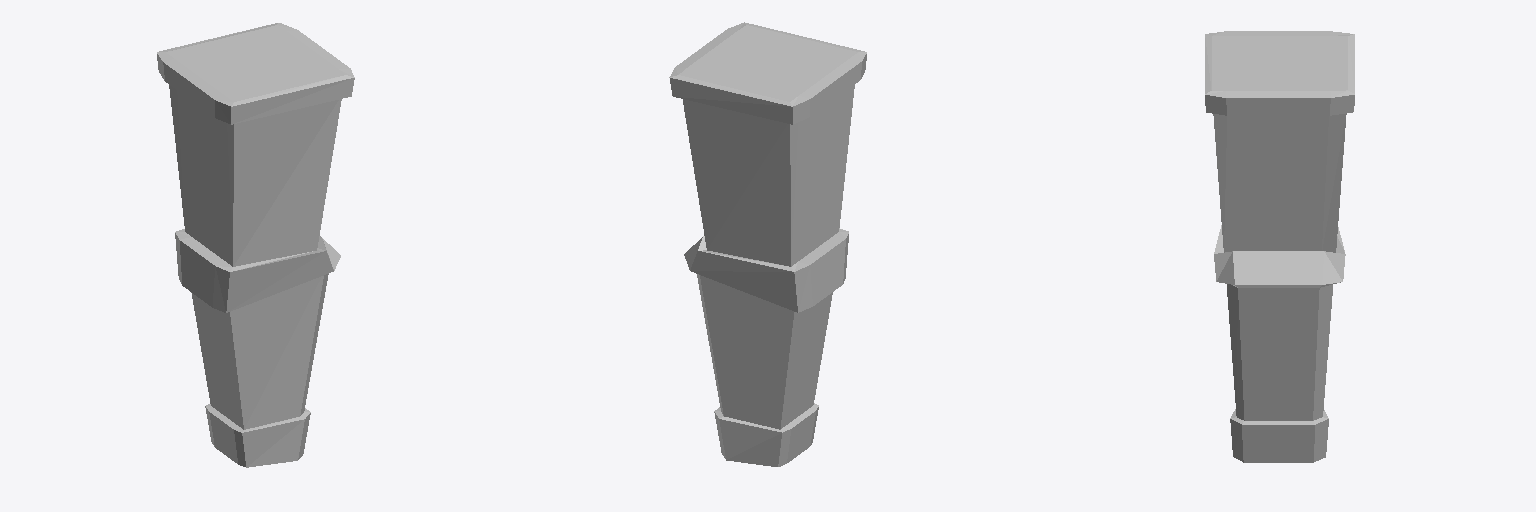
The model's file is leg.obj.
The picture shows the model from 3 angles: view 1: azimuth 30°, elevation 25°; view 2: azimuth 150°, elevation 25°; view 3: azimuth 270°, elevation 25°; orthographic projection.
Parts seen in each view (by area): view 1: pCube7; view 2: pCube7; view 3: pCube7.
Part boxes in pixels (x1,y1,x2,y2): pCube7: (157, 23, 354, 467); pCube7: (669, 22, 866, 466); pCube7: (1205, 31, 1354, 462).
Size of the model in its own units: 0.1744 by 0.4747 by 0.1684.